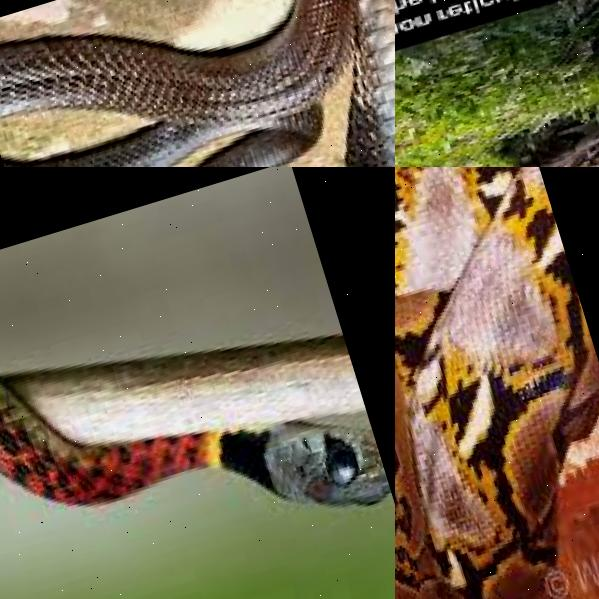snake: (0, 167, 395, 599), (395, 167, 599, 599), (0, 0, 395, 167), (455, 0, 599, 167)
